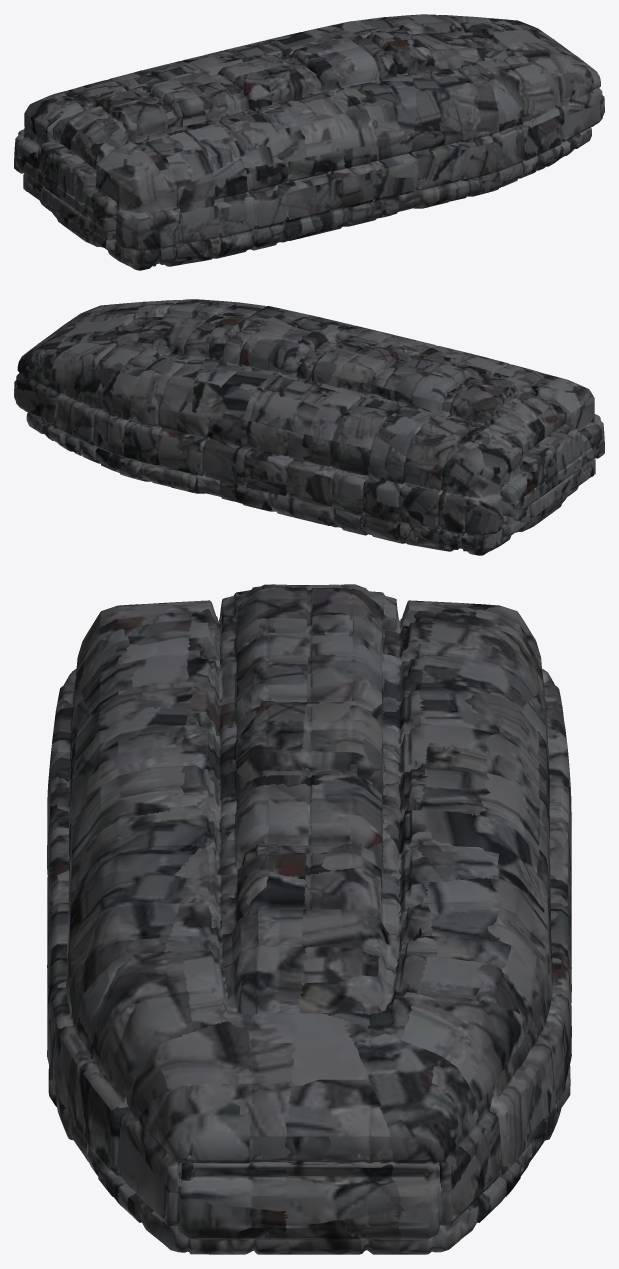
The model's file is arc-longshot-lean.glb.
The picture shows the model from 3 angles, top to bottom: view 1: azimuth 30°, elevation 25°; view 2: azimuth 150°, elevation 25°; view 3: azimuth 270°, elevation 25°; orthographic projection. The views are drawn at different scales.
Parts seen in each view (by area): view 1: chassis; view 2: chassis; view 3: chassis.
Part boxes in pixels (<box>): chassis: <box>14,14,604,270</box>; chassis: <box>14,299,604,555</box>; chassis: <box>47,584,571,1254</box>.
Size of the model in its own units: 0.9899 by 0.2373 by 0.4358.
1 material, 1 textured.
